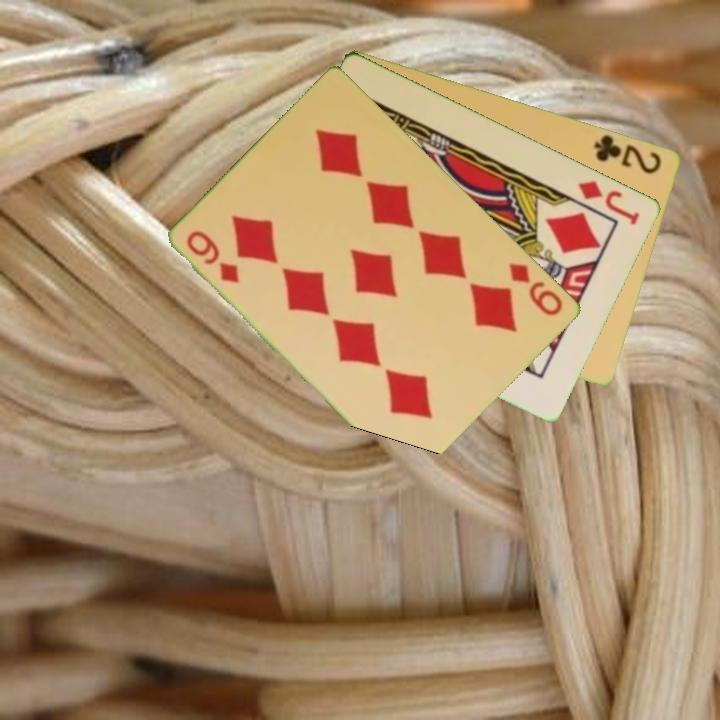2c: (590, 131, 665, 177)
9d: (505, 258, 566, 319), (183, 227, 243, 287)
Jd: (574, 176, 643, 227)
